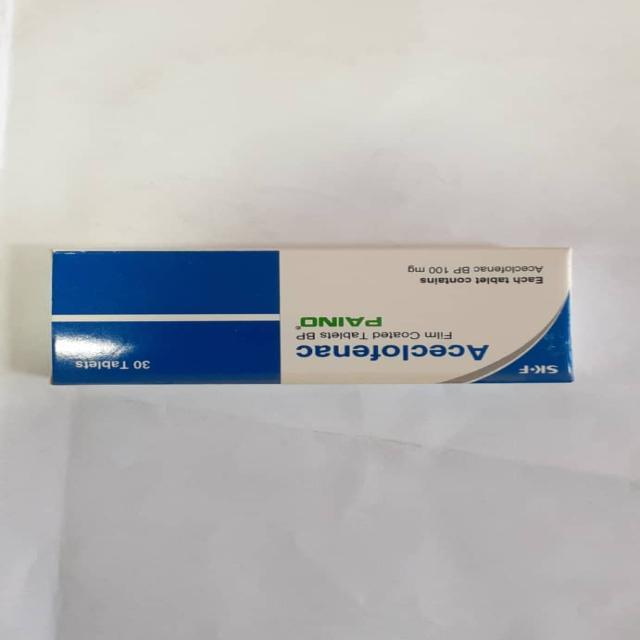drug-name: (288, 316, 384, 330)
